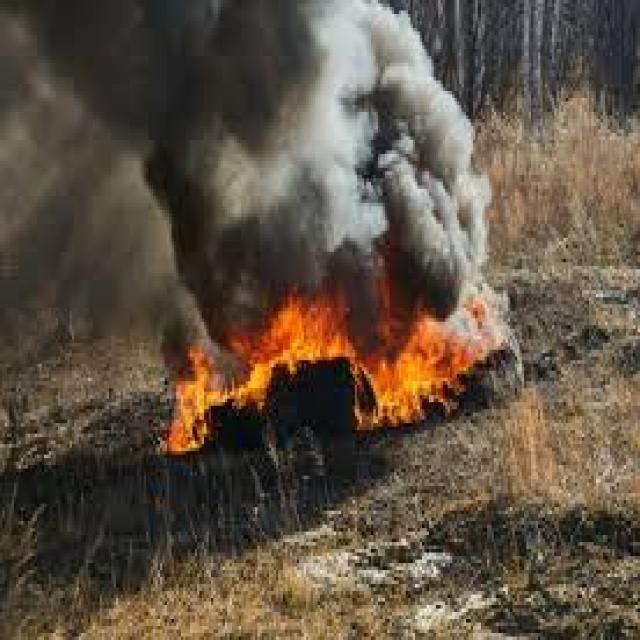Fire: (139, 284, 523, 454)
Smoke: (22, 0, 509, 364)
